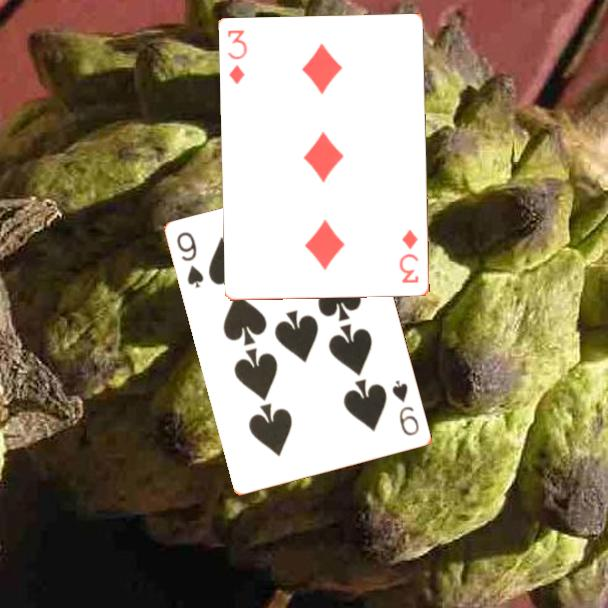d03: (224, 27, 250, 88), (396, 226, 422, 286)
s09: (173, 228, 207, 291), (389, 377, 422, 439)
